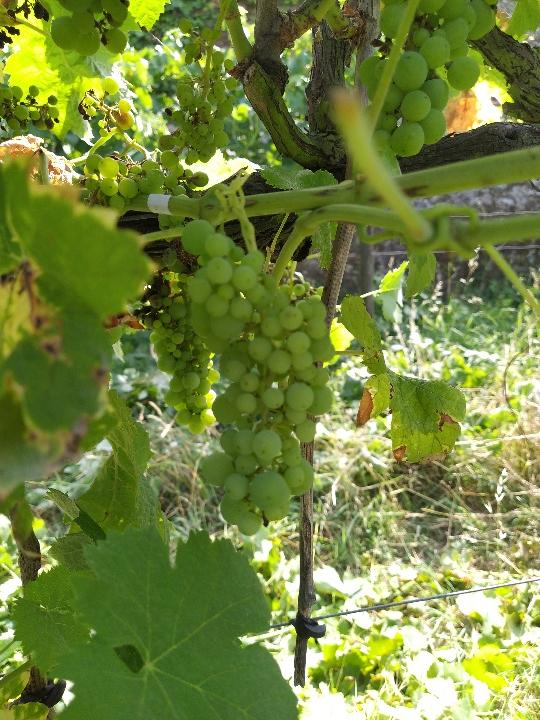grape: (177, 217, 339, 537), (147, 288, 213, 436)
